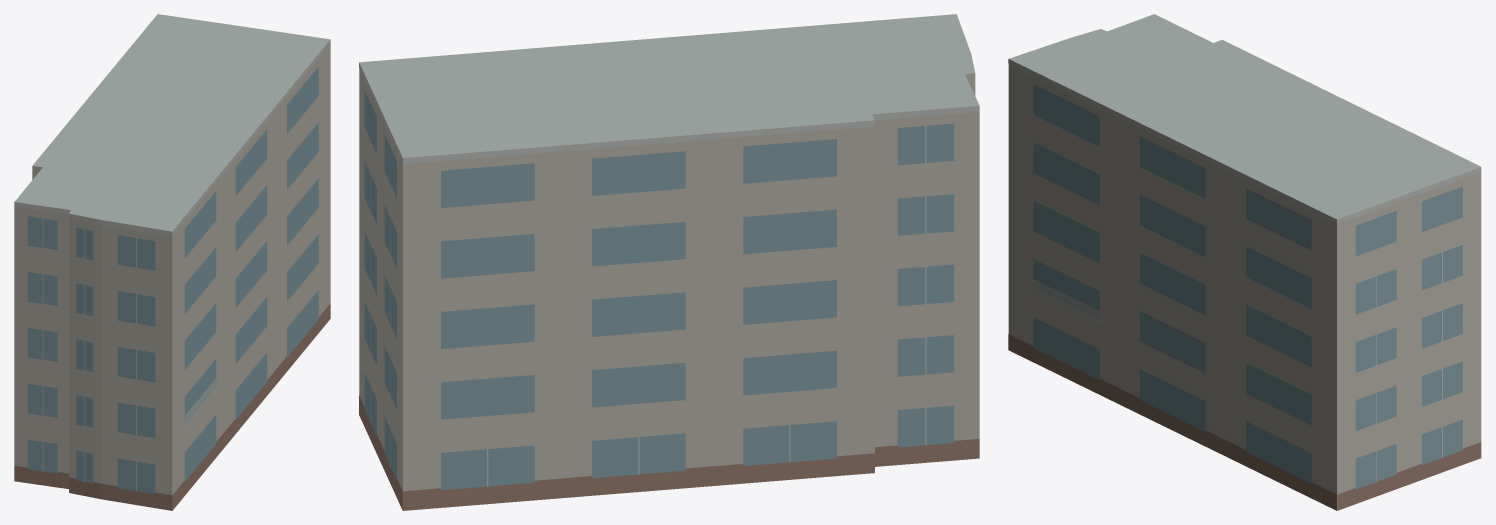
The model's file is survey-upis-32952836.glb.
3 views of the same model, side by side, from view 1: azimuth 30°, elevation 25°; view 2: azimuth 150°, elevation 25°; view 3: azimuth 270°, elevation 25° (orthographic). The views are drawn at different scales.
Visible parts, largest first — view 1: survey-upis-32952836.tmp; view 2: survey-upis-32952836.tmp; view 3: survey-upis-32952836.tmp.
Boxes of the visible parts, box(x1,y1,x2,y2) form: survey-upis-32952836.tmp: box(14, 14, 330, 510); survey-upis-32952836.tmp: box(359, 14, 979, 510); survey-upis-32952836.tmp: box(1008, 14, 1481, 510).
Bounding box in the file's own units: 21.79 × 14.4 × 21.19.
